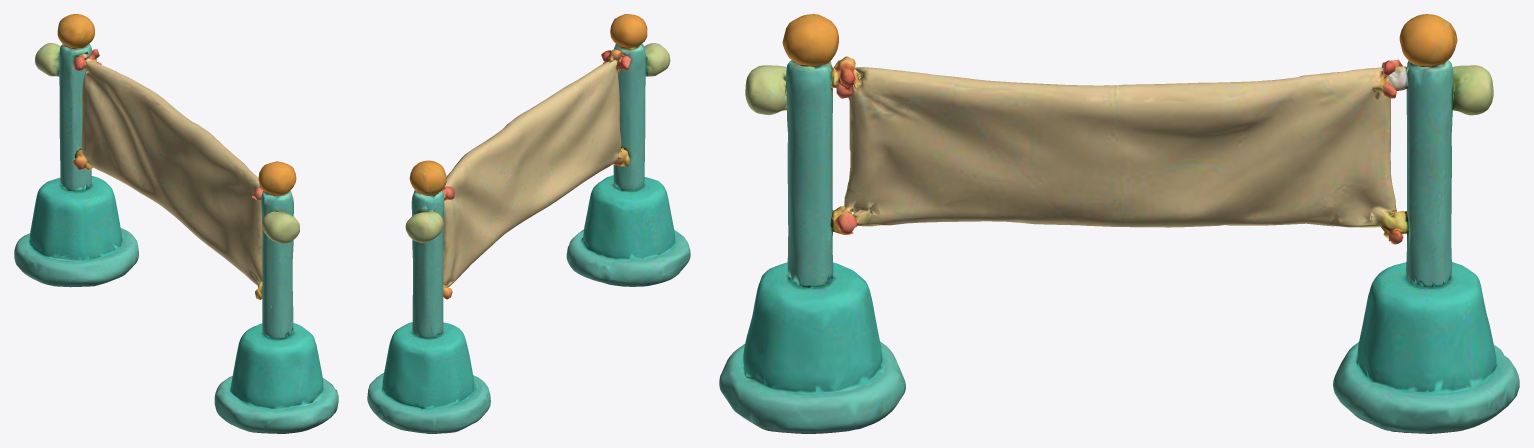
Rendered from prop_race_banner_01.glb.
The picture shows the model from 3 angles, left to right: view 1: azimuth 30°, elevation 25°; view 2: azimuth 150°, elevation 25°; view 3: azimuth 270°, elevation 25°; orthographic projection. The views are drawn at different scales.
Parts seen in each view (by area): view 1: prop_race_banner_01; view 2: prop_race_banner_01; view 3: prop_race_banner_01.
Part boxes in pixels (x1,y1,x2,y2): prop_race_banner_01: (14,14,338,433); prop_race_banner_01: (367,14,690,433); prop_race_banner_01: (719,14,1519,433).
Bounding box in the file's own units: 0.6647 × 1.5 × 2.83.
Materials: 1 (1 with a texture image).
